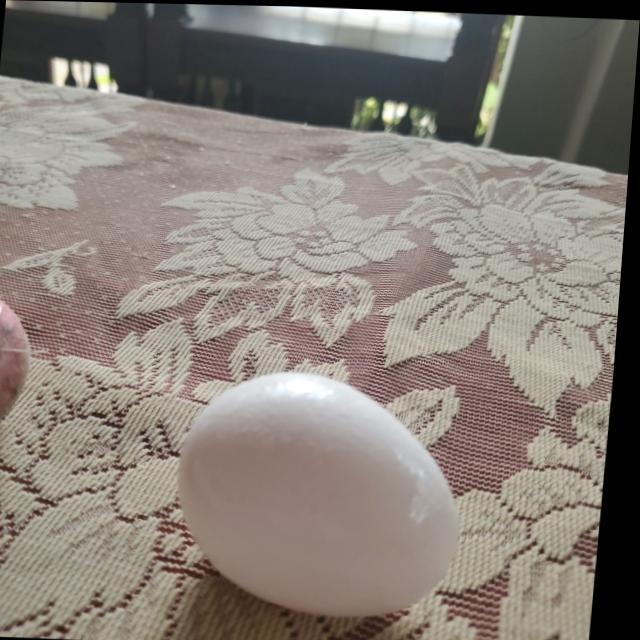egg: (174, 368, 476, 612)
onion: (0, 286, 35, 440)
